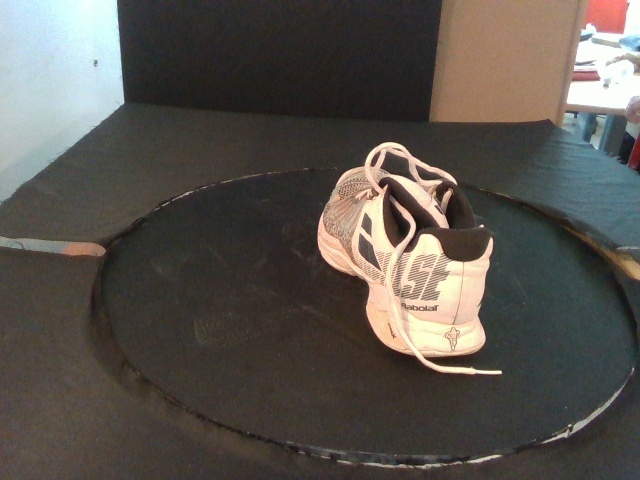shoe: (315, 164, 497, 359)
